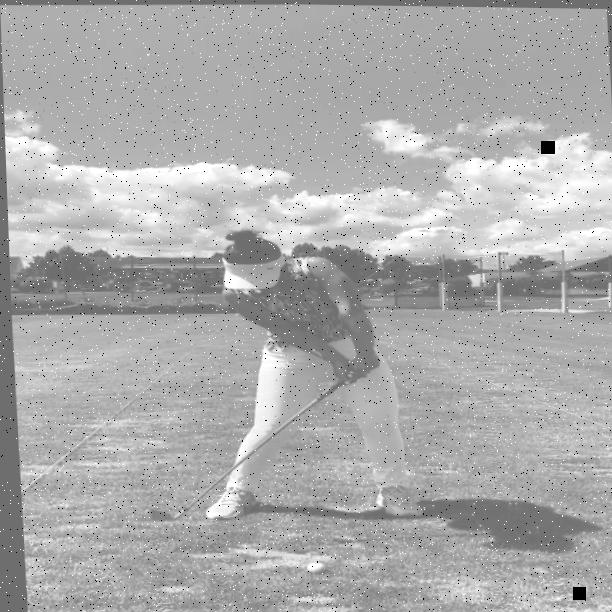ClubHead: (137, 508, 171, 523)
GolfBall: (302, 561, 322, 571)
